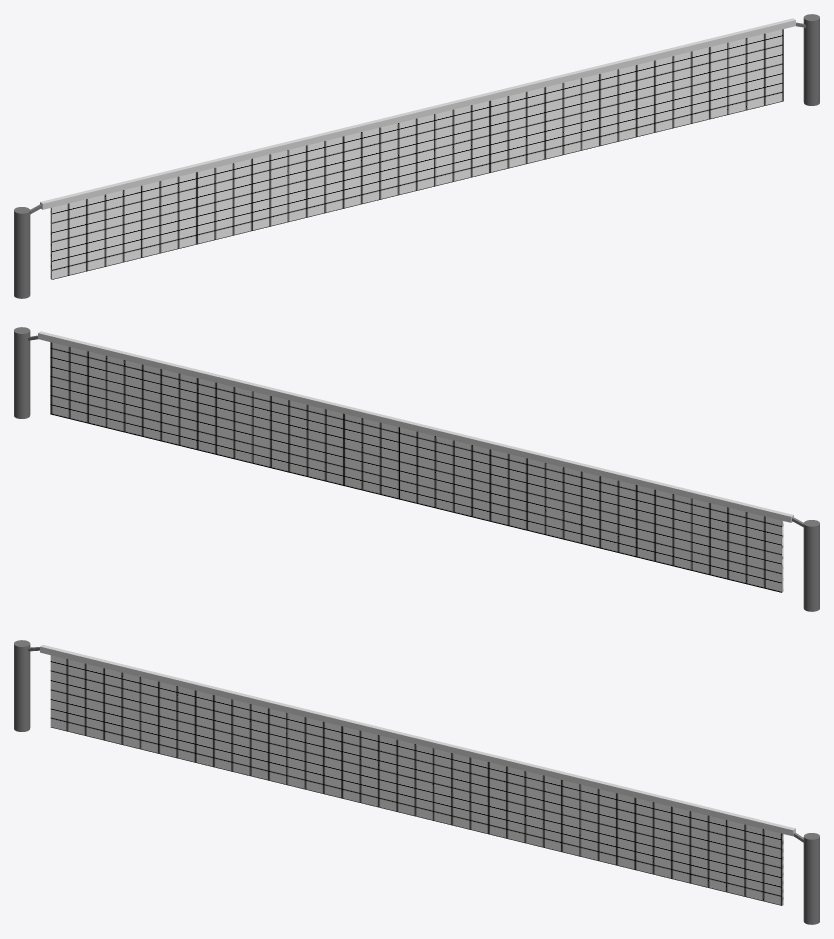
The model's file is Net.fbx.
3 views of the same model, one above another, from view 1: azimuth 30°, elevation 25°; view 2: azimuth 150°, elevation 25°; view 3: azimuth 330°, elevation 25° (orthographic).
Parts seen in each view (by area): view 1: pCylinder2; view 2: pCylinder2; view 3: pCylinder2.
Part boxes in pixels (box(x1,y1,x2,y2)): pCylinder2: box(14, 14, 819, 298); pCylinder2: box(14, 327, 819, 611); pCylinder2: box(14, 640, 819, 924).
Bounding box in the file's own units: 11.98 × 1.25 × 0.21.
Materials: 3 (1 with a texture image).
